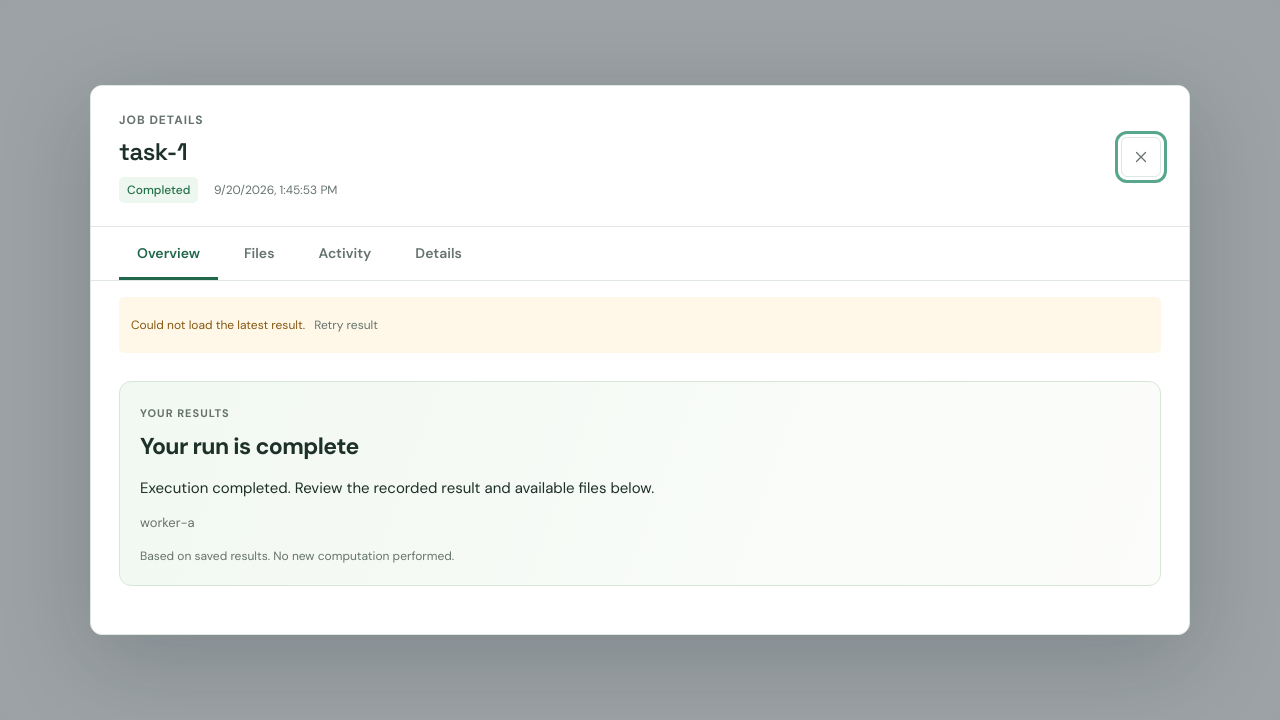
Test: refreshes the visible outcome on completion and lets a failed result fetch retry
Expected: the message shows "Could not load the latest result", left=131, top=317, right=305, bottom=333
What coordinates should you click on to do the following:
click the button "Retry result"
I would click on:
 (346, 325)
Its box is left=308, top=307, right=384, bottom=343.
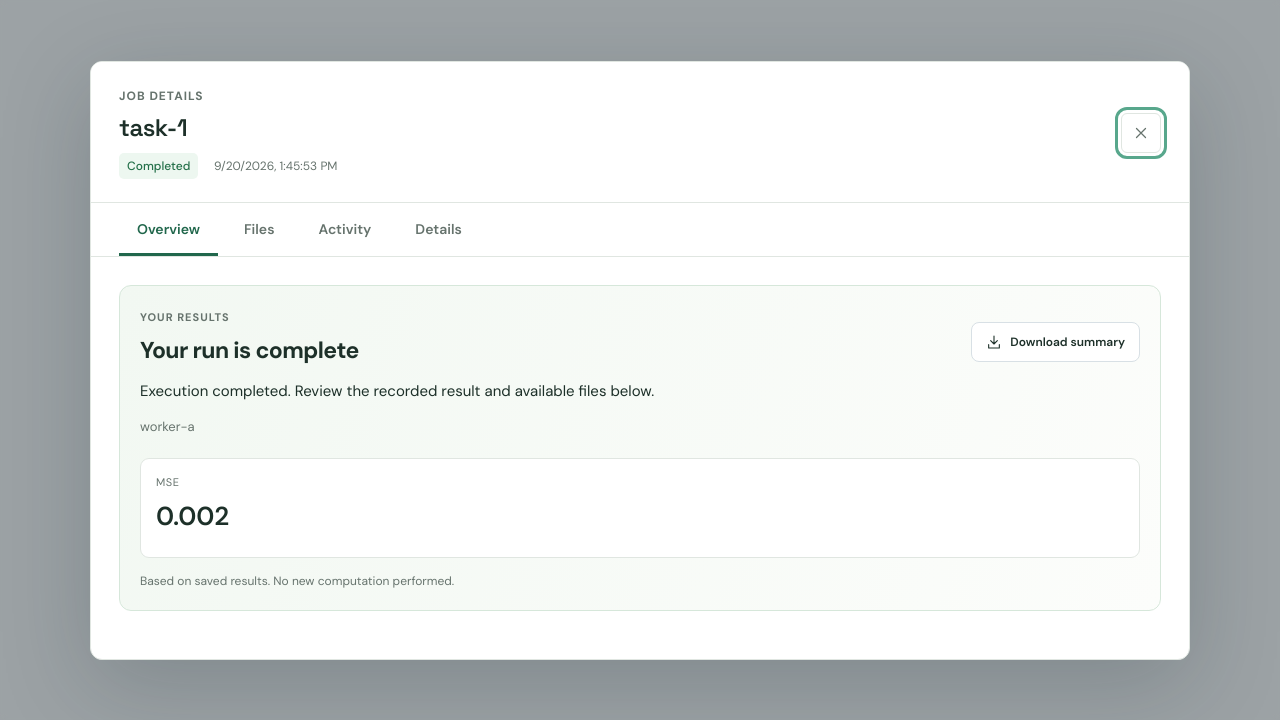
Now the text "0.002" is shown, box left=156, top=498, right=229, bottom=532
Now the message "Could not load the latest result. Retry result" is gone
Now the button "Download summary" is shown, box left=971, top=322, right=1140, bottom=362
